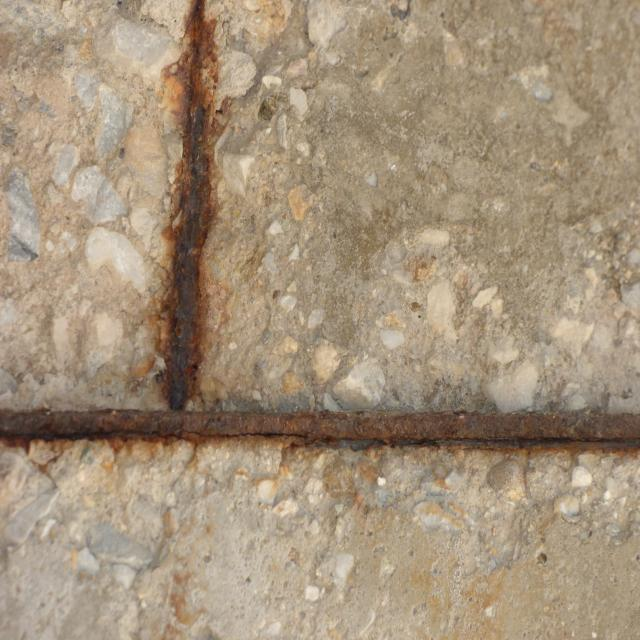corrosion: (0, 392, 640, 476), (160, 0, 238, 406)
